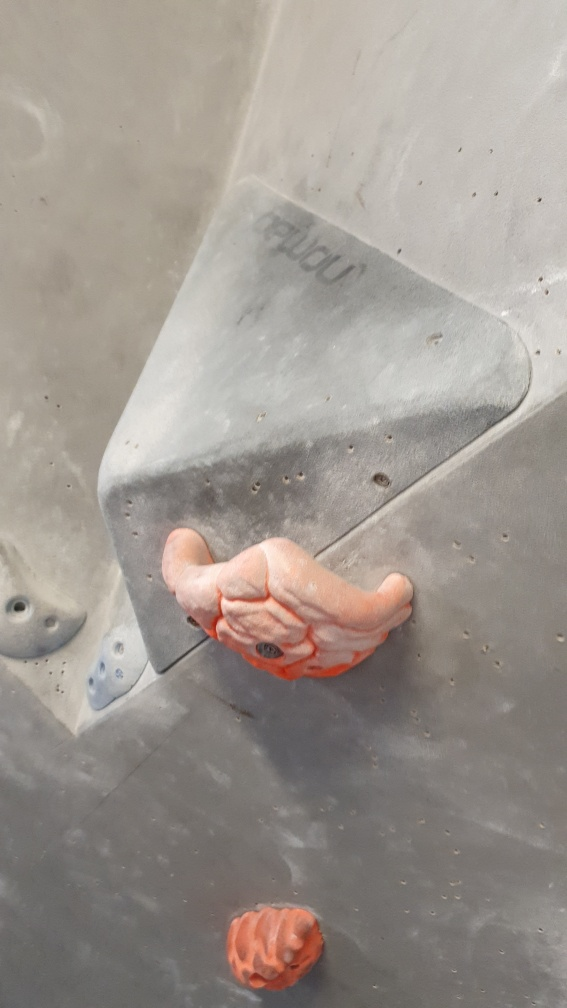Jug: (153, 523, 419, 684)
